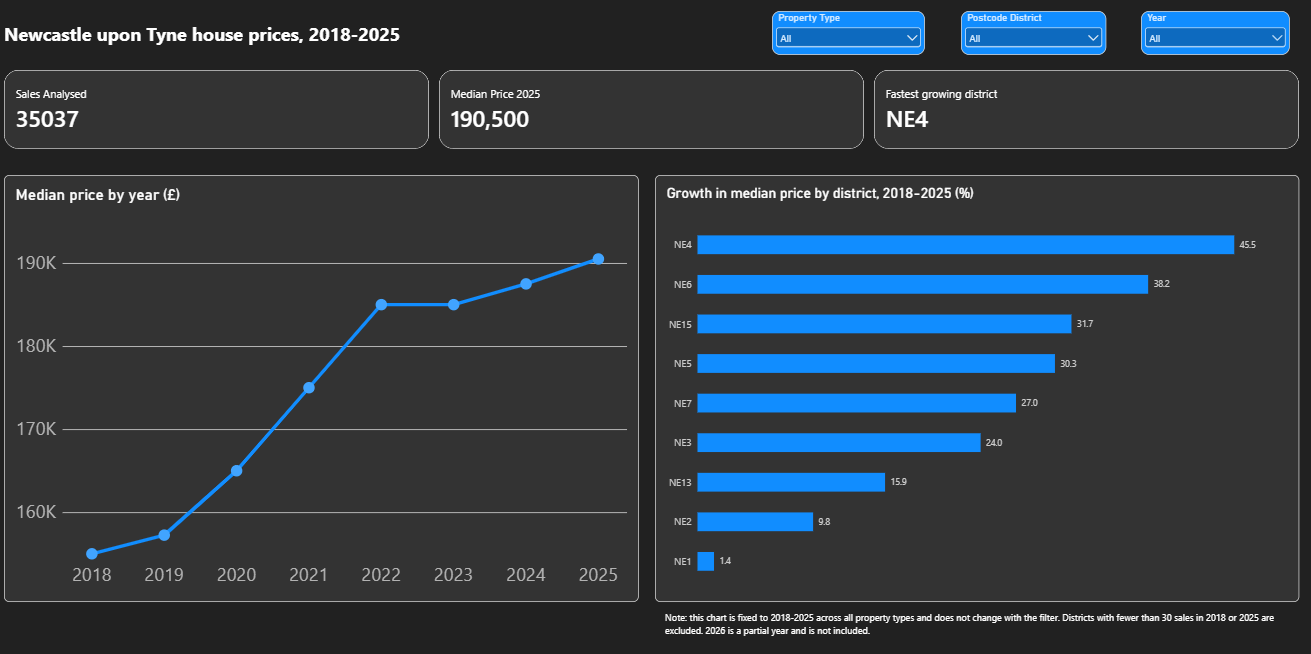

Layout of this report page (visuals, bound fields, positions):
{"tool":"powerbi","page":{"name":"Page 1","canvas":[1920,1080],"ordinal":0},"visuals":[{"type":"textbox","box":[10.2,35,1043.2,77.3],"z":0},{"type":"cardVisual","fields":{"Data":["tblSales.Sales Analysed"]},"box":[10.2,106.5,620,115.3],"z":1000},{"type":"cardVisual","fields":{"Data":["tblSales.Median Price 2025"]},"box":[644.9,106.5,620,115],"z":2000},{"type":"cardVisual","fields":{"Data":["tblGrowth.Fastest District"]},"box":[1279.5,106.5,620,115],"z":3000},{"type":"lineChart","title":"Median price by year (£)","fields":{"Category":["tblSales.year"],"Y":["tblSales.Median Price"]},"box":[10.2,259.7,926.4,623],"z":4000},{"type":"clusteredBarChart","title":"Growth in median price by district, 2018-2025 (%)","fields":{"Category":["tblGrowth.pc_district"],"Y":["Sum(tblGrowth.growth_pct)"]},"box":[960,259,939.6,623],"z":5000},{"type":"textbox","box":[974.6,895.8,910.4,43.8],"z":6000},{"type":"slicer","fields":{"Values":["tblSales.property_type"]},"box":[1405.7,20.4,211.6,64.2],"z":7000},{"type":"slicer","fields":{"Values":["tblSales.year"]},"box":[1669.1,20.4,217.4,64.2],"z":8000},{"type":"slicer","title":"Proparyt Type","fields":{"Values":["tblGrowth.pc_district"]},"box":[1130.7,20.4,223.2,64.2],"z":9000}]}

Visuals, with their boxes on the page's 1920x1080 design canvas (x1, y1, x2, y2). These are canvas units, not pixel positions in the 1311x654 screenshot, which may show the page scaled, cropped or inside an application window:
textbox: (x1=10, y1=35, x2=1053, y2=112)
cardVisual - tblSales.Sales Analysed: (x1=10, y1=106, x2=630, y2=222)
cardVisual - tblSales.Median Price 2025: (x1=645, y1=106, x2=1265, y2=222)
cardVisual - tblGrowth.Fastest District: (x1=1280, y1=106, x2=1900, y2=222)
"Median price by year (£)" lineChart: (x1=10, y1=260, x2=937, y2=883)
"Growth in median price by district, 2018-2025 (%)" clusteredBarChart: (x1=960, y1=259, x2=1900, y2=882)
textbox: (x1=975, y1=896, x2=1885, y2=940)
slicer - tblSales.property_type: (x1=1406, y1=20, x2=1617, y2=85)
slicer - tblSales.year: (x1=1669, y1=20, x2=1886, y2=85)
"Proparyt Type" slicer: (x1=1131, y1=20, x2=1354, y2=85)
